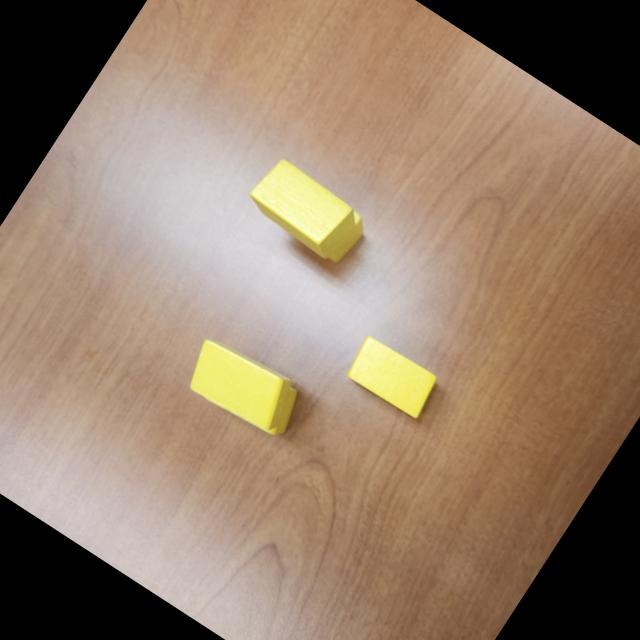yellow: (176, 328, 302, 440), (241, 153, 364, 263), (202, 348, 308, 446), (340, 332, 444, 422), (306, 198, 371, 268)
